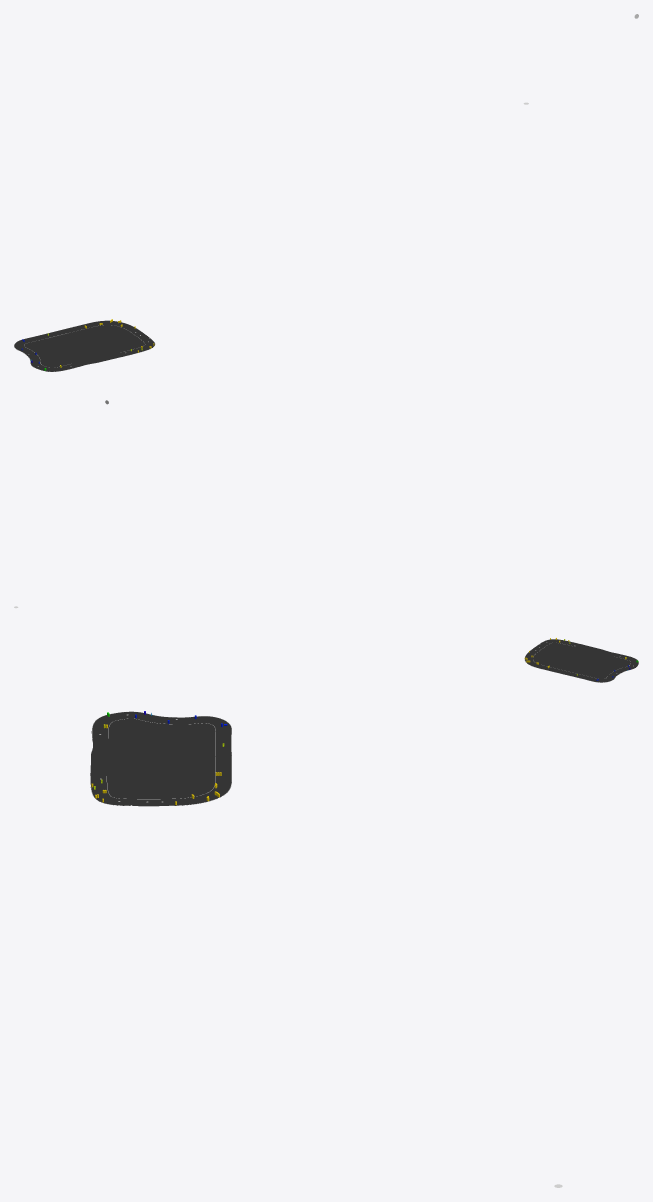
File: jaiblender.dae
3 renders of one model, top to bottom at view 1: azimuth 30°, elevation 25°; view 2: azimuth 150°, elevation 25°; view 3: azimuth 270°, elevation 25°, orthographic. The views are drawn at different scales.
Visible parts, largest first — view 1: Plane.002, Plane.007; view 2: Plane.002, Plane.007; view 3: Plane.002, Plane.007, Plane.010.
Boxes of the visible parts, box(x1,y1,x2,y2) form: Plane.002: box(16, 322, 145, 370); Plane.007: box(14, 320, 154, 371); Plane.002: box(529, 641, 635, 681); Plane.007: box(525, 639, 638, 682); Plane.002: box(99, 718, 217, 794); Plane.007: box(90, 711, 231, 806); Plane.010: box(90, 739, 109, 780).
Size of the model in its own units: 364 by 144 by 104.
